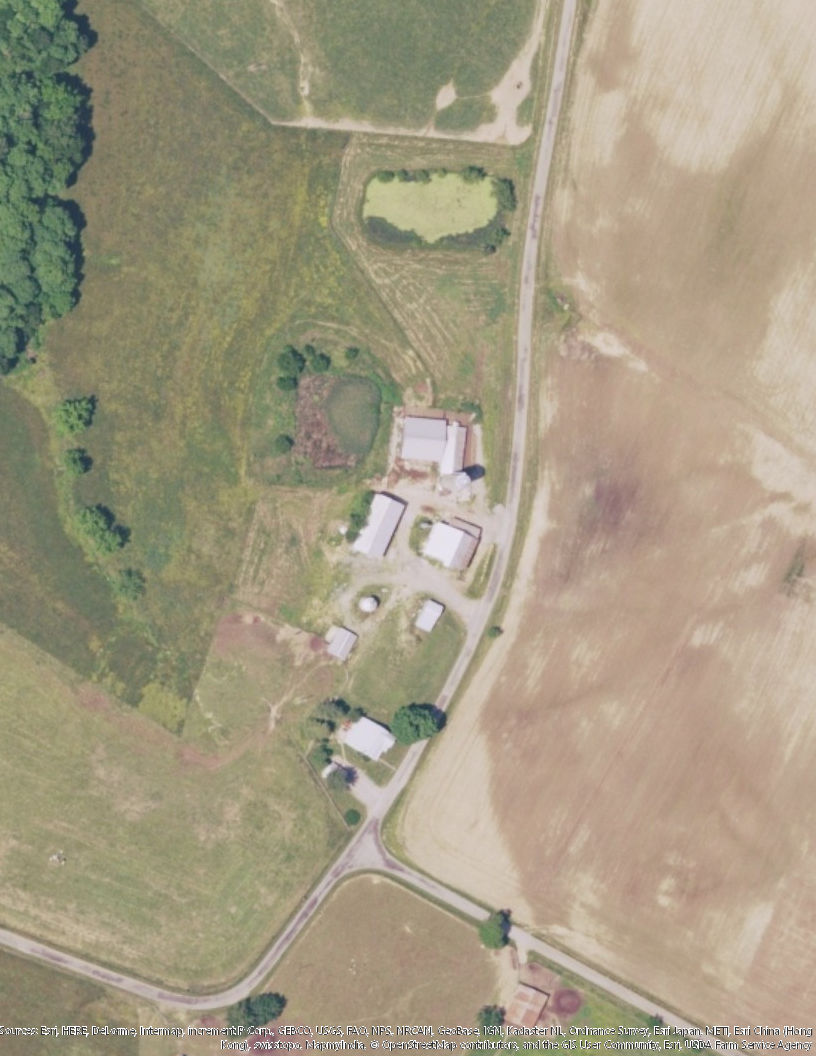cafo: (390, 406, 484, 489), (344, 483, 409, 564), (424, 510, 484, 575)
